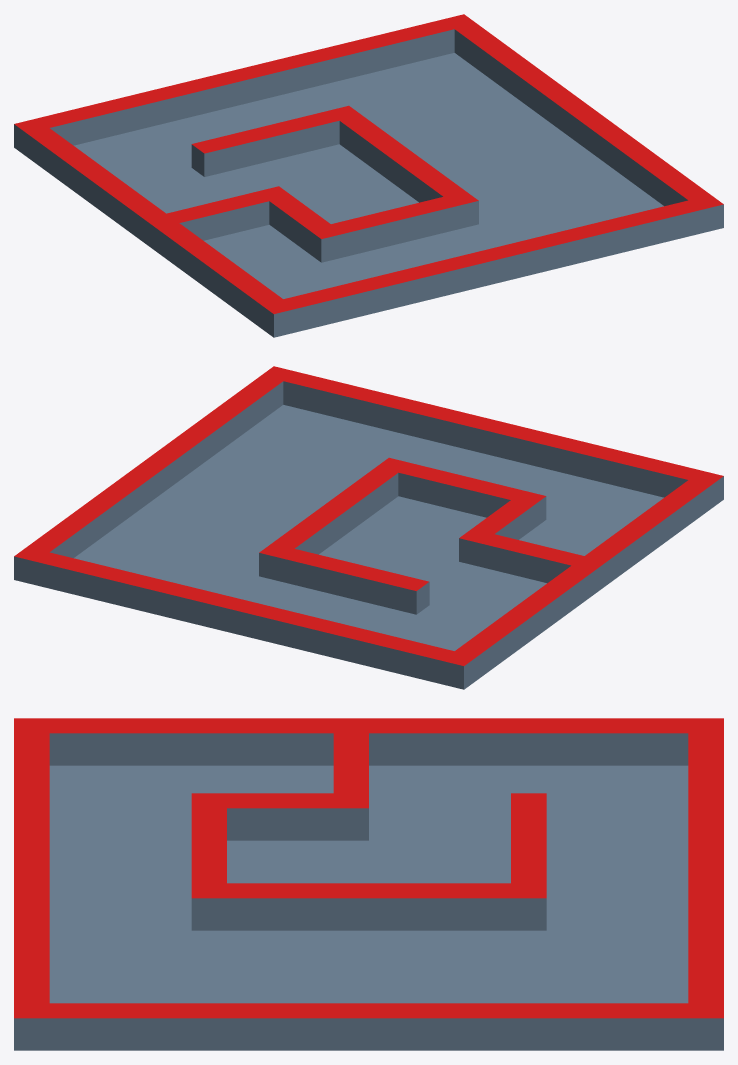
The model's file is basic_map.glb.
3 views of the same model, one above another, from view 1: azimuth 30°, elevation 25°; view 2: azimuth 150°, elevation 25°; view 3: azimuth 270°, elevation 25° (orthographic). The views are drawn at different scales.
Parts seen in each view (by area): view 1: Plane; view 2: Plane; view 3: Plane.
Boxes of the visible parts, box(x1,y1,x2,y2) form: Plane: box(14, 14, 723, 337); Plane: box(14, 366, 723, 689); Plane: box(14, 718, 723, 1050).
Bounding box in the file's own units: 40 × 2 × 40.
